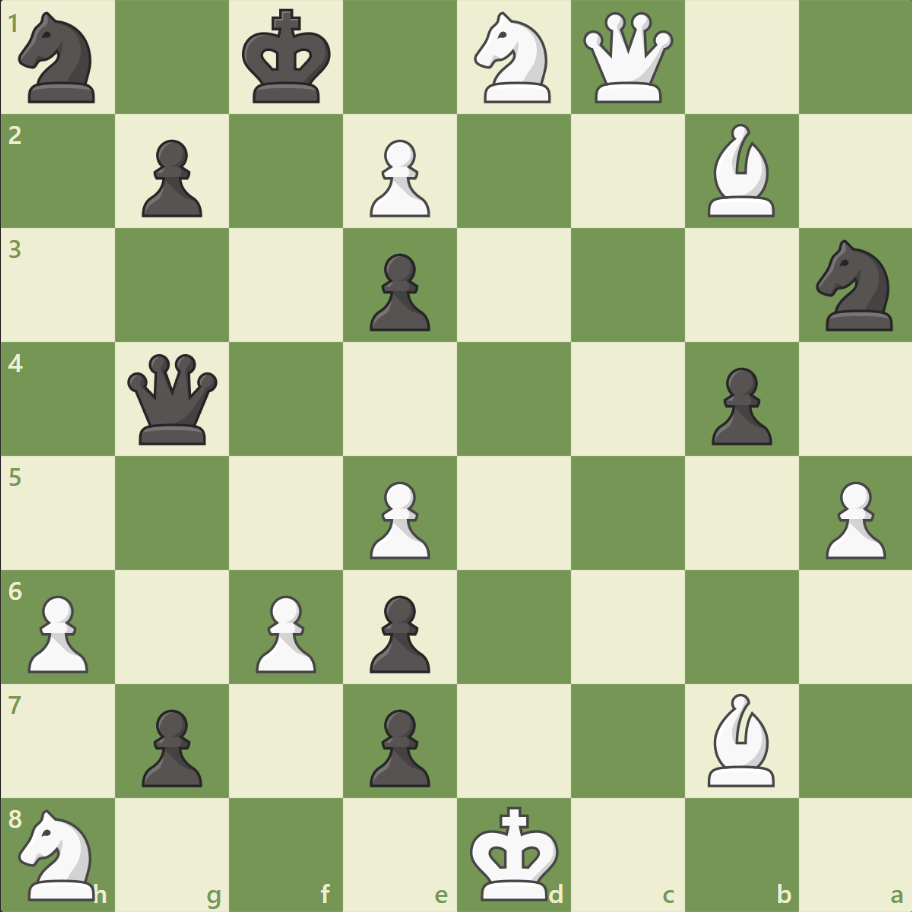B: (698, 687, 782, 790), (698, 120, 782, 222)
K: (465, 798, 565, 906)
N: (465, 7, 562, 110), (11, 802, 108, 904)
P: (247, 586, 322, 677), (20, 586, 95, 677), (815, 473, 889, 564), (361, 473, 435, 564), (361, 132, 435, 223)
Q: (578, 9, 677, 108)
k: (238, 4, 338, 112)
n: (806, 234, 903, 337), (11, 7, 108, 110)
p: (133, 700, 208, 791), (701, 359, 776, 450), (133, 132, 208, 223), (361, 700, 435, 791), (361, 586, 435, 677), (361, 246, 435, 337)
q: (124, 349, 223, 449)
